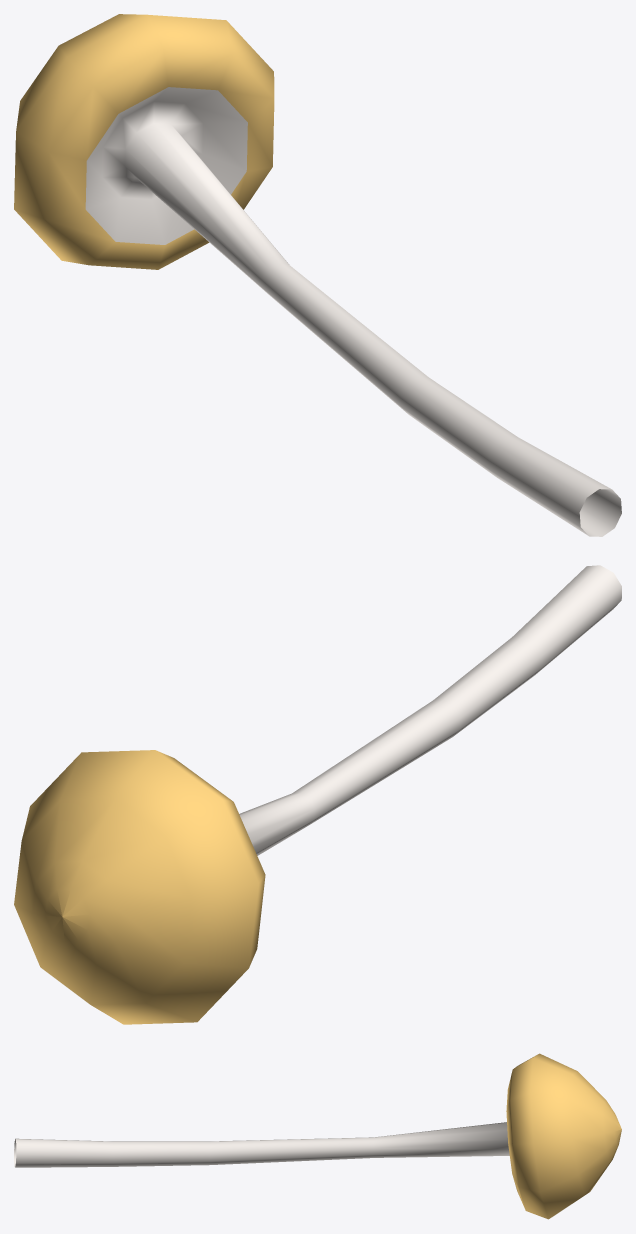
File: ERAN_HILLELI_Mushroom1.fbx
3 renders of one model, top to bottom at view 1: azimuth 30°, elevation 25°; view 2: azimuth 150°, elevation 25°; view 3: azimuth 270°, elevation 25°, orthographic. The views are drawn at different scales.
Visible parts, largest first — view 1: Loft; view 2: Loft; view 3: Loft.
Part boxes in pixels (left/top/right/bottom): Loft: left=14, top=14, right=621, bottom=536; Loft: left=14, top=565, right=621, bottom=1024; Loft: left=14, top=1053, right=621, bottom=1219.
Size of the model in its own units: 18.9 by 19.46 by 69.85.
